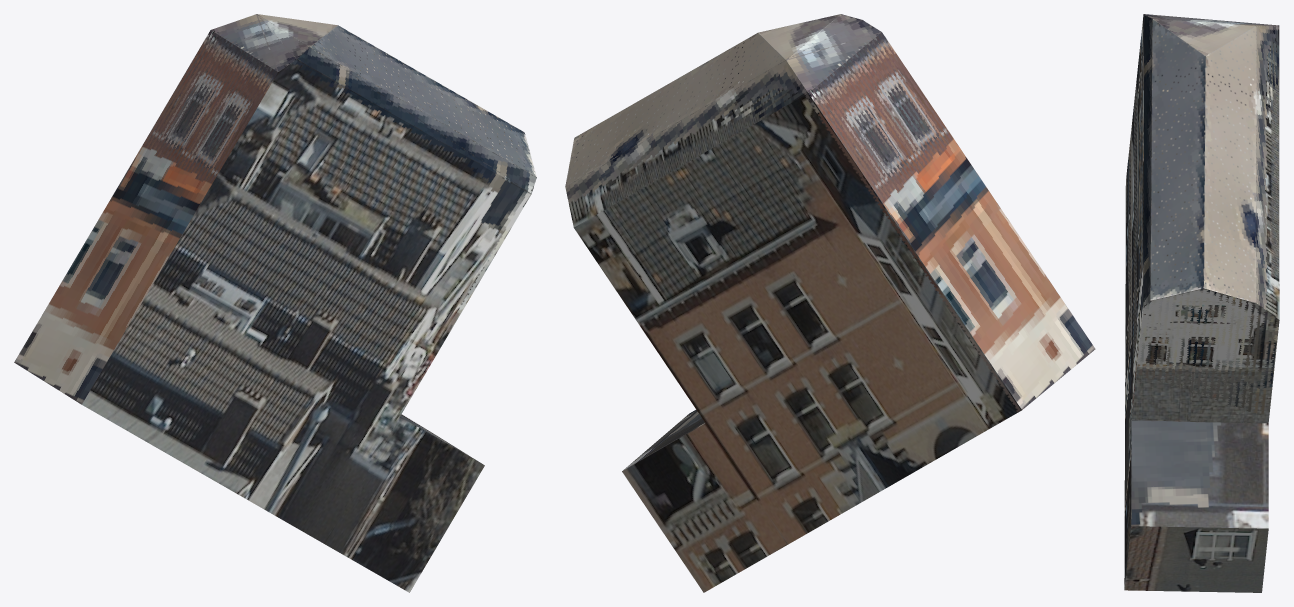
The picture shows the model from 3 angles, left to right: view 1: azimuth 30°, elevation 25°; view 2: azimuth 150°, elevation 25°; view 3: azimuth 270°, elevation 25°; orthographic projection. The views are drawn at different scales.
Visible parts, largest first — view 1: BAG_0599100000760416 (×6); view 2: BAG_0599100000760416 (×4); view 3: BAG_0599100000760416 (×6).
Boxes of the visible parts, <box> form: BAG_0599100000760416 (×6): <box>14,14,536,592</box>; BAG_0599100000760416 (×4): <box>565,14,1095,592</box>; BAG_0599100000760416 (×6): <box>1124,14,1279,592</box>.
Bounding box in the file's own units: 18.61 × 20.6 × 5.4.
1 material, 1 textured.
